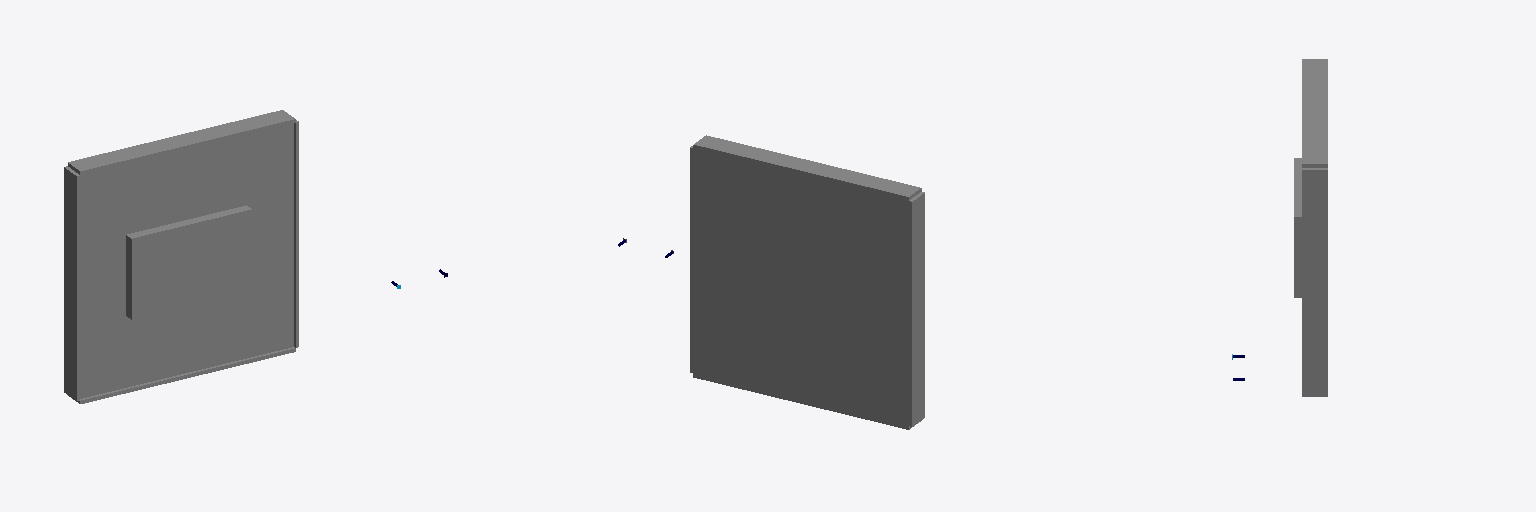
File: BaseJuego.obj
3 views of the same model, side by side, from view 1: azimuth 30°, elevation 25°; view 2: azimuth 150°, elevation 25°; view 3: azimuth 270°, elevation 25° (orthographic).
Parts seen in each view (by area): view 1: BaseJuego; view 2: BaseJuego; view 3: BaseJuego.
Part boxes in pixels (x1,y1,x2,y2): BaseJuego: (64, 110, 298, 403); BaseJuego: (690, 135, 924, 429); BaseJuego: (1294, 59, 1327, 396).
Size of the model in its own units: 4689 by 3102 by 1149.